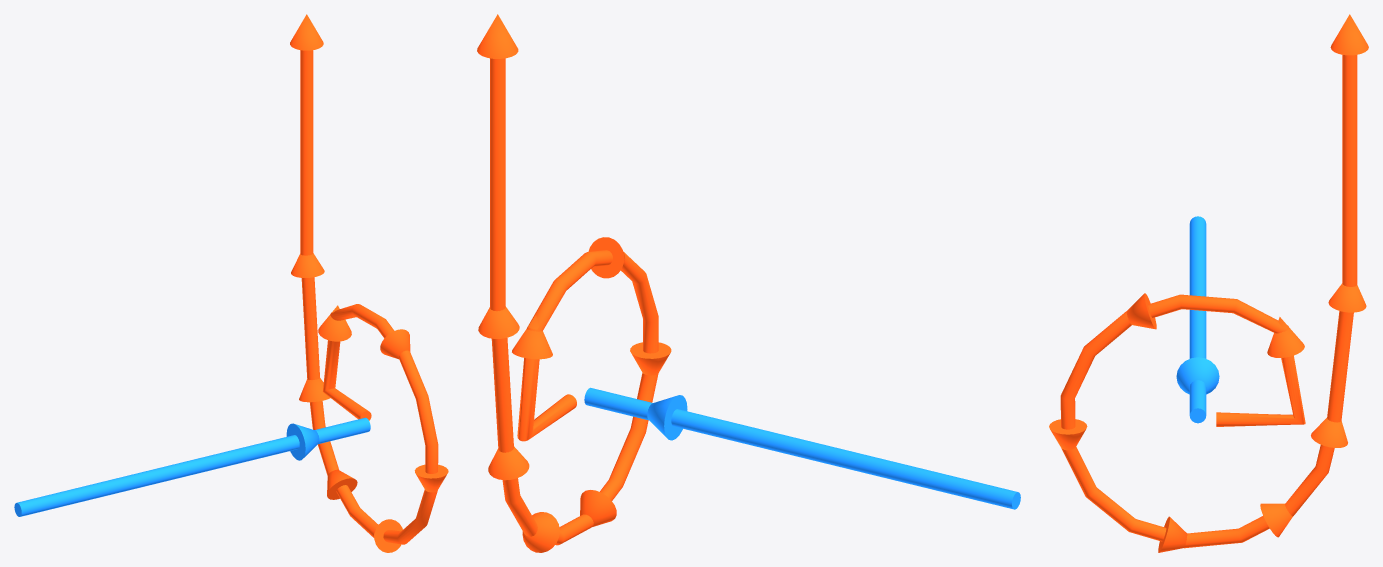
Rendered from end_suction_centrifugal_pump_flow.glb.
3 views of the same model, side by side, from view 1: azimuth 30°, elevation 25°; view 2: azimuth 150°, elevation 25°; view 3: azimuth 270°, elevation 25° (orthographic). The views are drawn at different scales.
Parts seen in each view (by area): view 1: flow_discharge, flow_suction; view 2: flow_discharge, flow_suction; view 3: flow_discharge, flow_suction.
Part boxes in pixels (bbox=[...]): flow_discharge: bbox=[290, 14, 448, 552]; flow_suction: bbox=[14, 417, 370, 516]; flow_discharge: bbox=[477, 14, 671, 552]; flow_suction: bbox=[584, 387, 1020, 509]; flow_discharge: bbox=[1049, 14, 1368, 552]; flow_suction: bbox=[1176, 216, 1219, 423].
Bounding box in the file's own units: 0.5241 × 0.6436 × 0.3473.
